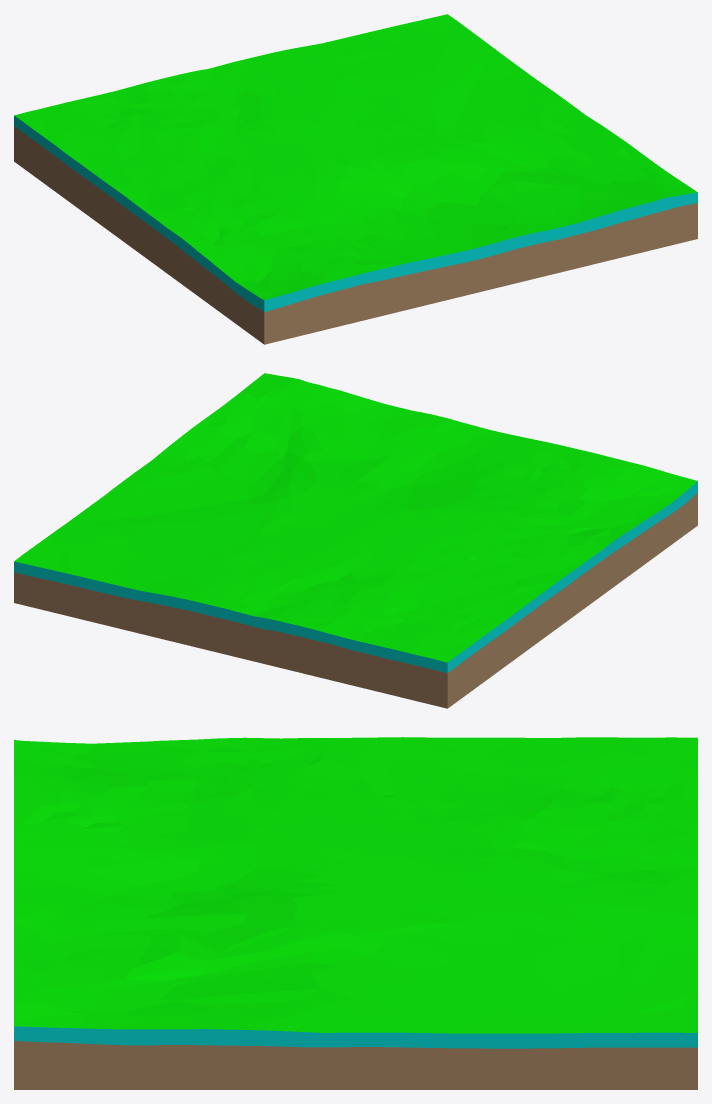
Rendered from ground_cut_A.fbx.
3 renders of one model, top to bottom at view 1: azimuth 30°, elevation 25°; view 2: azimuth 150°, elevation 25°; view 3: azimuth 270°, elevation 25°, orthographic. The views are drawn at different scales.
Visible parts, largest first — view 1: ground_cut_A; view 2: ground_cut_A; view 3: ground_cut_A.
Boxes of the visible parts, left/top/right/bottom form: ground_cut_A: left=14, top=14, right=697, bottom=344; ground_cut_A: left=14, top=373, right=697, bottom=708; ground_cut_A: left=14, top=737, right=697, bottom=1089.
Size of the model in its own units: 3742 by 404 by 3742.
